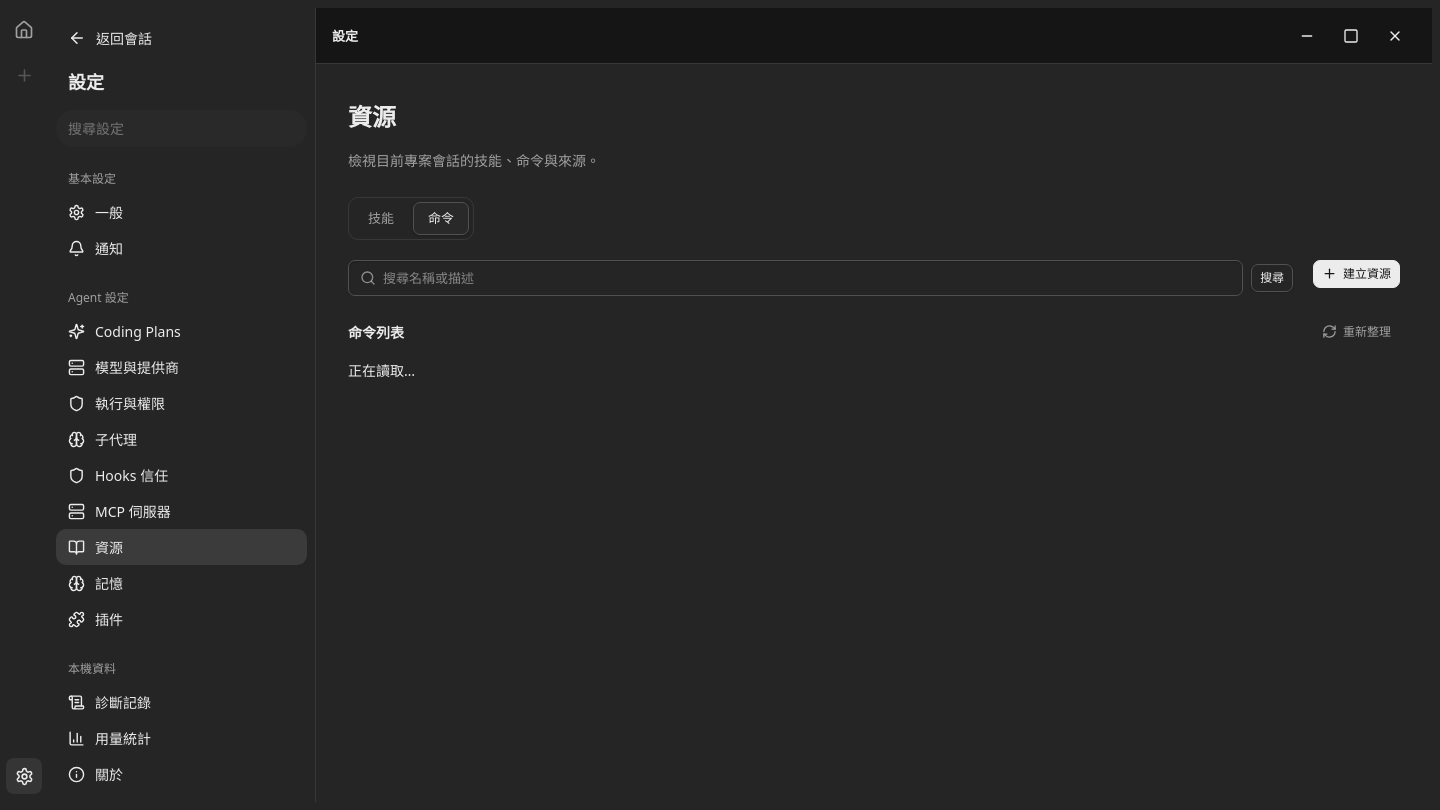
it: Desktop workbench shell › retains a resource draft after leaving and reopening Settings
Click the button "資源": click(182, 547) [56,529,307,565]
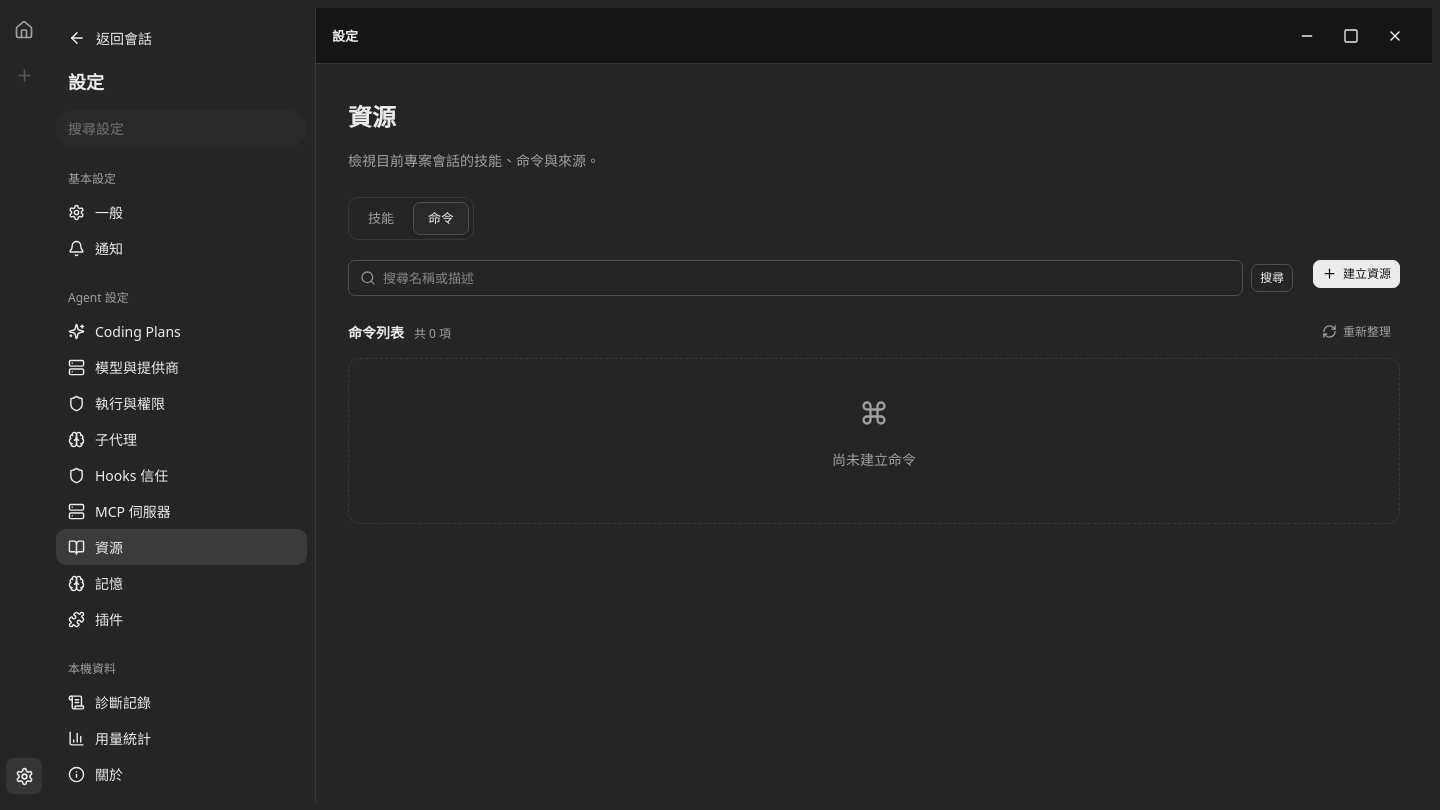
Click the button "建立資源": click(1357, 274) [1313,260,1400,288]
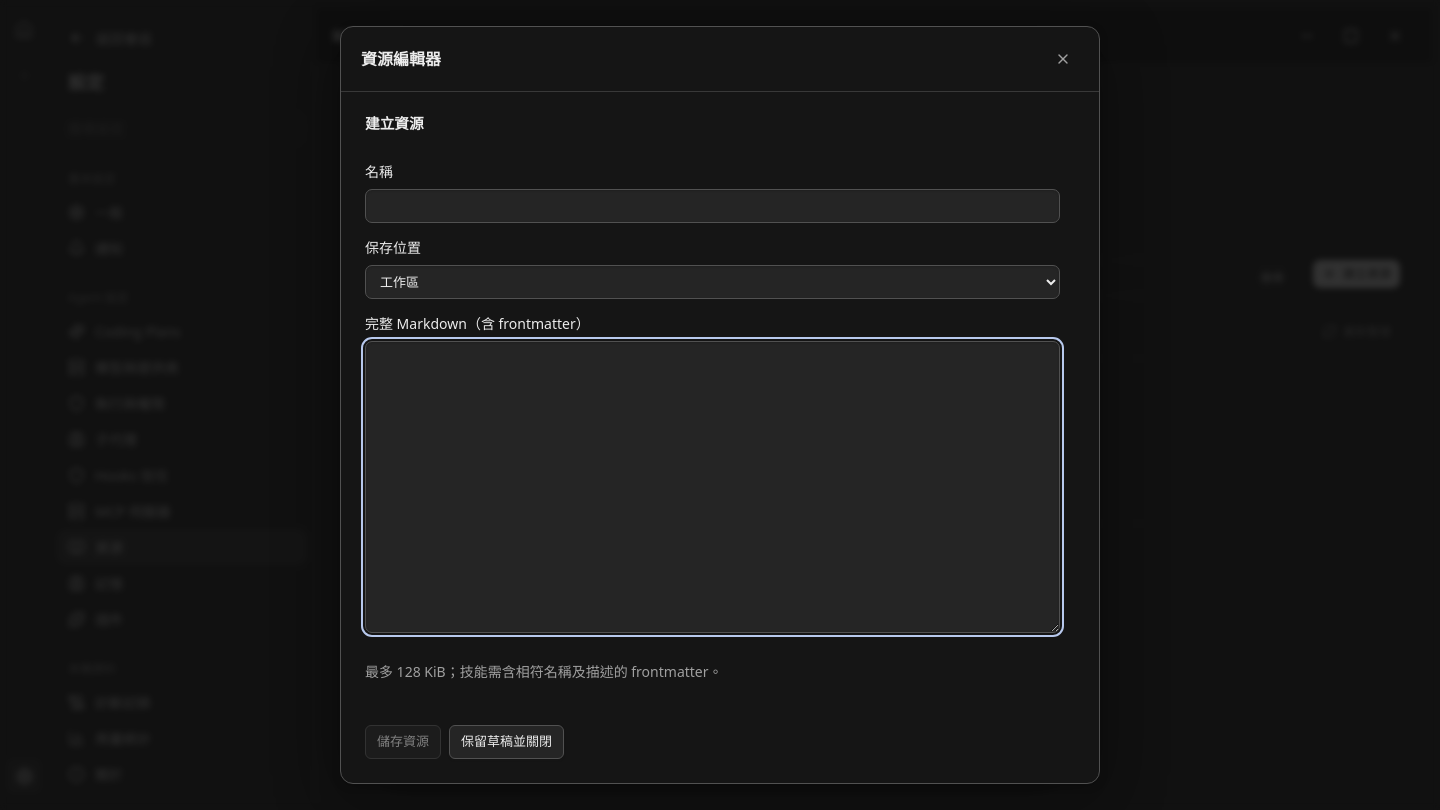
In the field labelled "名稱": (712, 206) [365,189,1060,223], type "kept-draft"
Click the button "保留草稿並關閉": click(506, 742) [449,725,564,759]
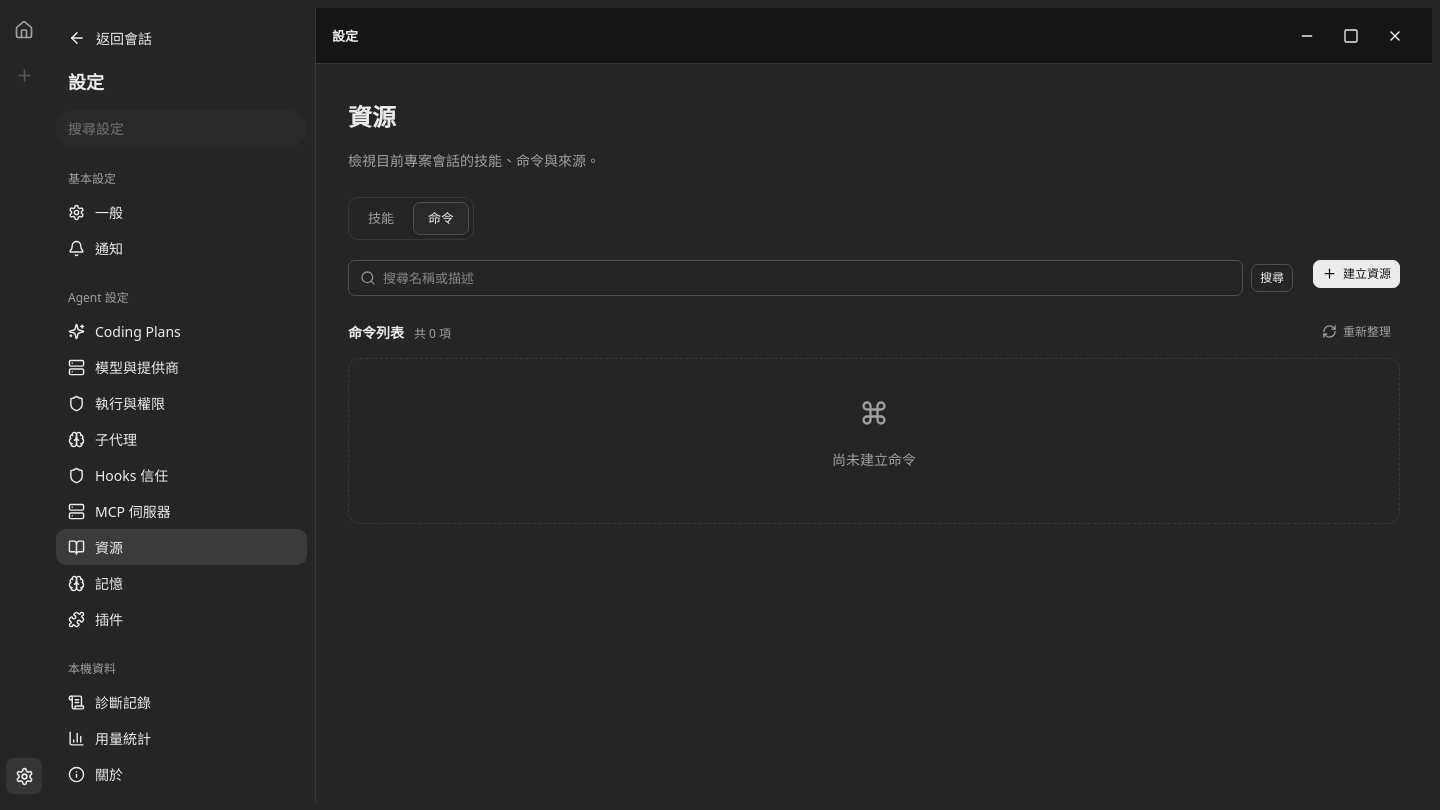
Click the button "返回會話": click(182, 38) [56,20,307,56]
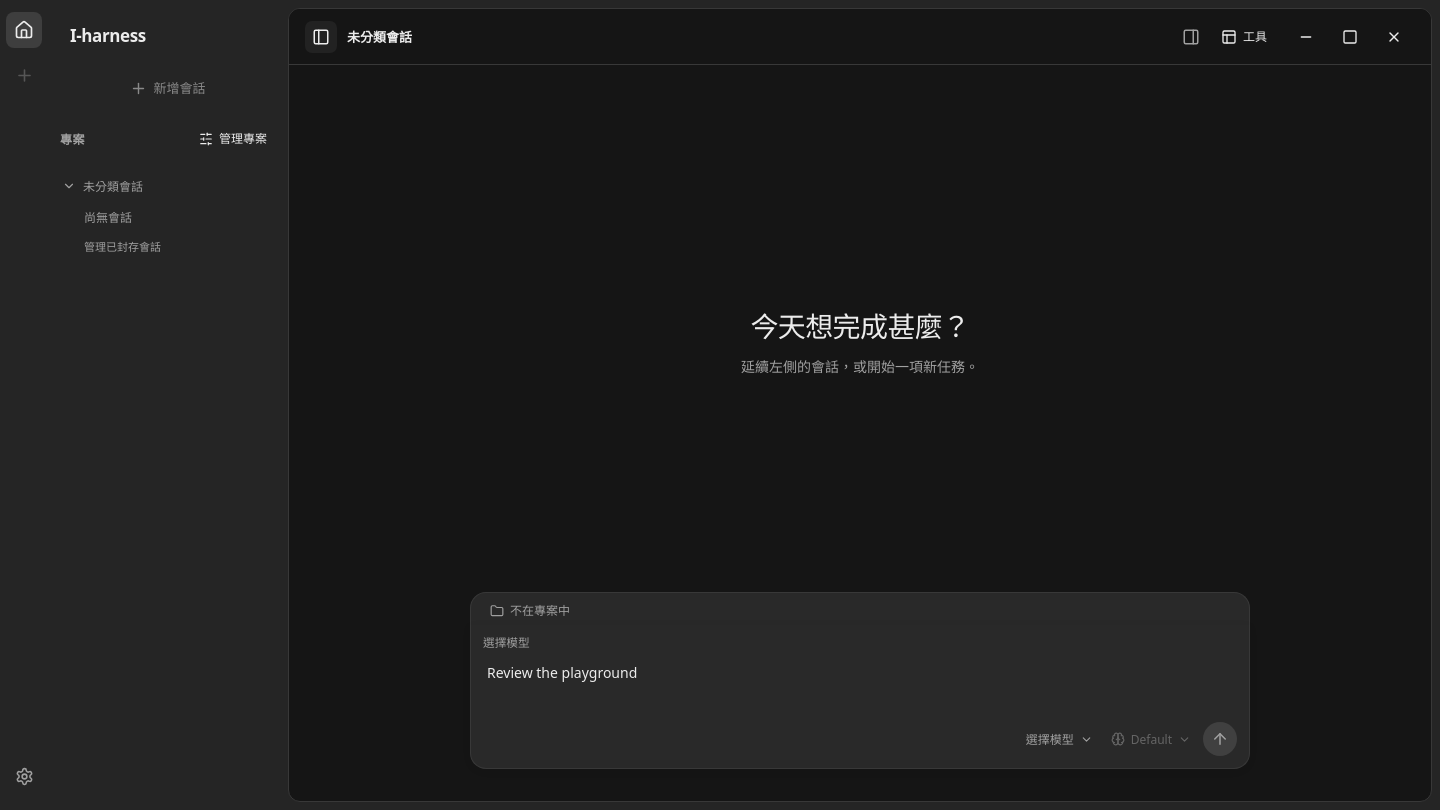
Click the button named "設定": click(24, 776) [6,758,42,794]
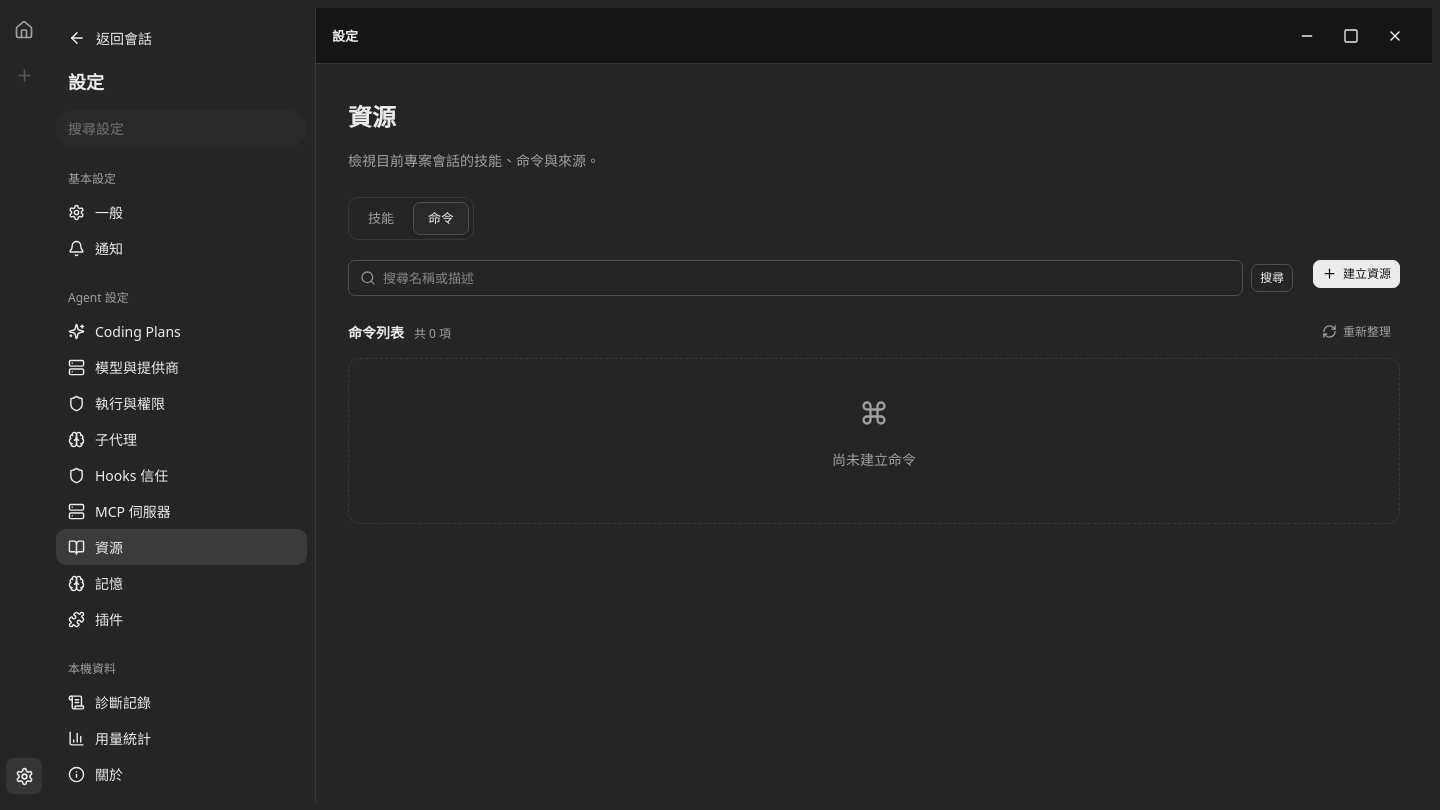
Click the button "建立資源": click(1357, 274) [1313,260,1400,288]
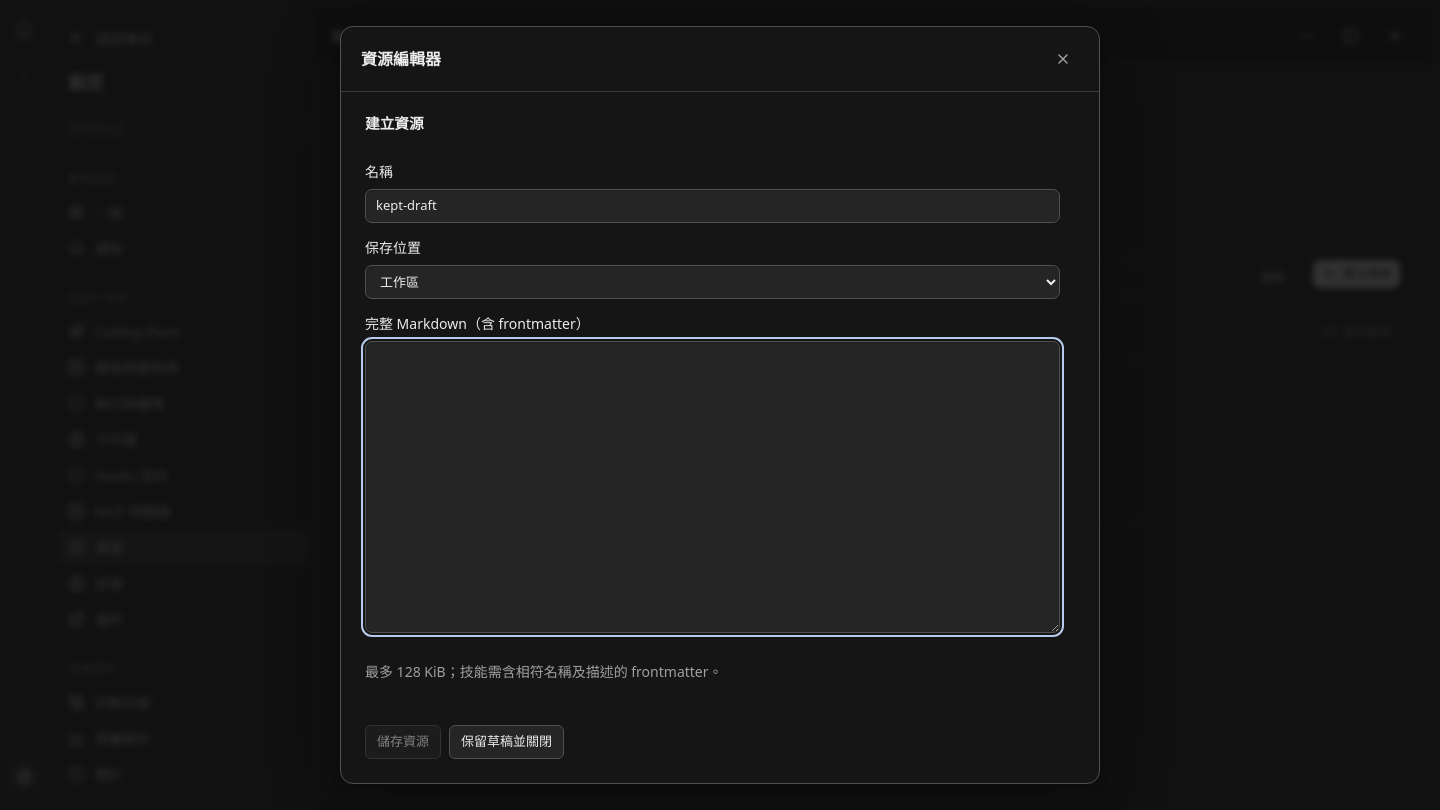
Check: the field labelled "名稱" holds "kept-draft", box [365,189,1060,223]
